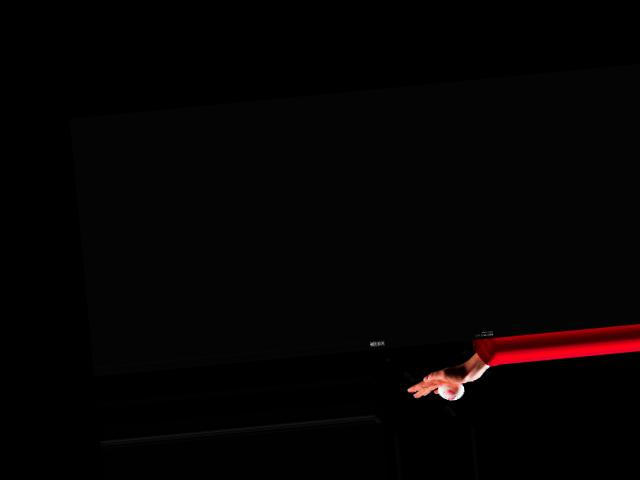egg: (438, 381, 466, 401)
